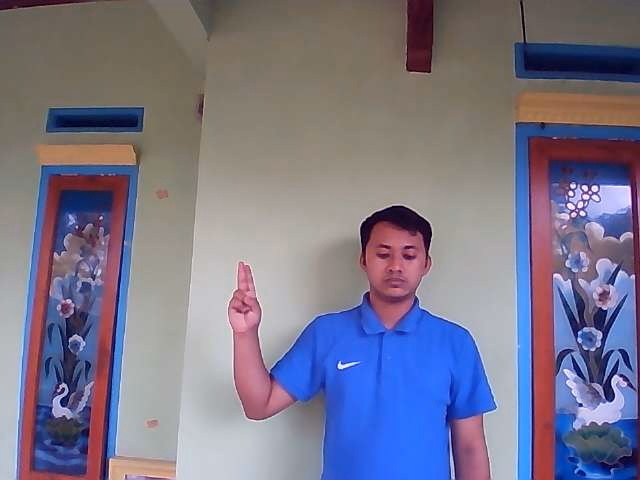U: (227, 261, 262, 330)
